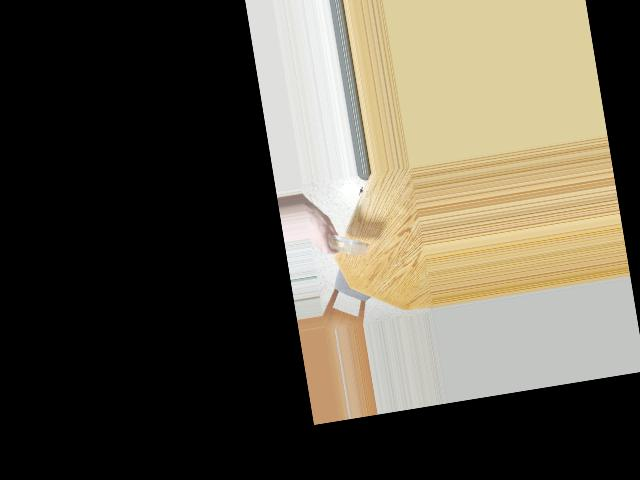cheese: (322, 229, 371, 261)
